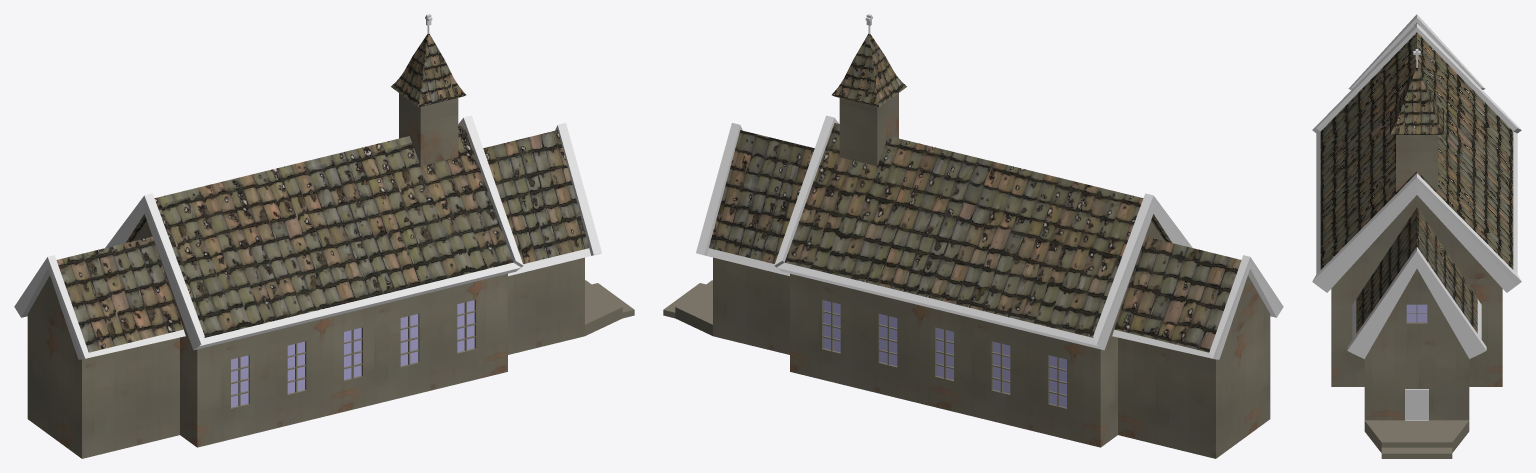
The model's file is Church4_texture.fbx.
3 renders of one model, left to right at view 1: azimuth 30°, elevation 25°; view 2: azimuth 150°, elevation 25°; view 3: azimuth 270°, elevation 25°, orthographic. The views are drawn at different scales.
Parts seen in each view (by area): view 1: Roof2, ChirchWalls, Roof3, Roof2.001, Window Glass, ChurchTower, Roof, Window Frames; view 2: Roof2, ChirchWalls, Roof3, Roof2.001, Window Glass, ChurchTower, Roof, Window Frames; view 3: Roof2, ChirchWalls, Roof2.001, Roof, ChurchTower, Roof3, Door, GlassFront.
Part boxes in pixels (x1=…): Roof2: x1=126, y1=118, x2=600, y2=345; ChirchWalls: x1=27, y1=221, x2=634, y2=458; Roof3: x1=14, y1=236, x2=185, y2=359; Roof2.001: x1=105, y1=115, x2=601, y2=350; Window Glass: x1=231, y1=300, x2=474, y2=407; ChurchTower: x1=399, y1=93, x2=458, y2=165; Roof: x1=391, y1=34, x2=465, y2=106; Window Frames: x1=231, y1=302, x2=475, y2=406; Roof2: x1=697, y1=118, x2=1171, y2=345; ChirchWalls: x1=663, y1=221, x2=1270, y2=458; Roof3: x1=1112, y1=236, x2=1283, y2=359; Roof2.001: x1=696, y1=115, x2=1192, y2=350; Window Glass: x1=823, y1=300, x2=1066, y2=407; ChurchTower: x1=839, y1=93, x2=898, y2=165; Roof: x1=832, y1=34, x2=906, y2=106; Window Frames: x1=822, y1=302, x2=1066, y2=406; Roof2: x1=1312, y1=27, x2=1521, y2=338; ChirchWalls: x1=1331, y1=195, x2=1502, y2=458; Roof2.001: x1=1312, y1=23, x2=1521, y2=358; Roof: x1=1390, y1=68, x2=1443, y2=134; ChurchTower: x1=1396, y1=135, x2=1437, y2=191; Roof3: x1=1348, y1=14, x2=1485, y2=89; Door: x1=1405, y1=389, x2=1428, y2=420; GlassFront: x1=1406, y1=304, x2=1427, y2=322.
Size of the model in its own units: 6034 by 3374 by 1998.
